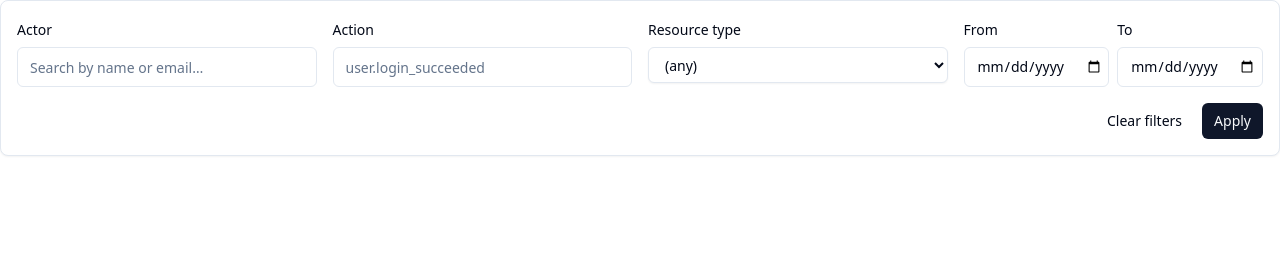
AuditFilters › actor combobox › filters the dropdown by username substring
Click the dropdown named "Actor filter" at (167,67), box [17,47,316,87]
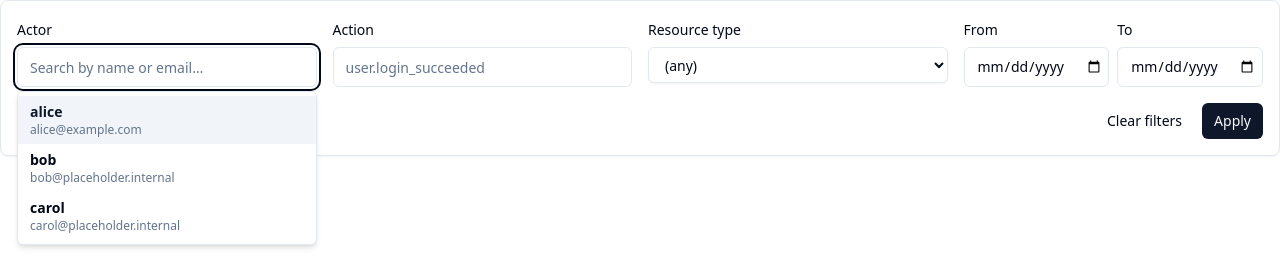
Now the option "alice alice@example.com" is shown, box [18,96,316,144]
Now the option "bob bob@placeholder.internal" is shown, box [30,150,174,186]
Now the option "carol carol@placeholder.internal" is shown, box [30,198,180,234]
Type "alic" into the dropdown named "Actor filter" at (167,67), box [17,47,316,87]
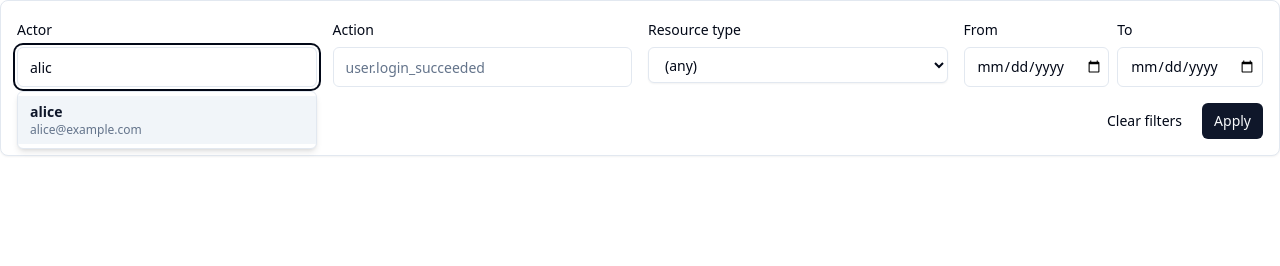
Now the option "alice alice@example.com" is shown, box [18,96,316,144]
Now the option "bob" is gone
Now the option "carol" is gone
